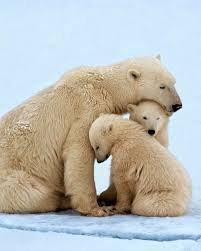bear: (0, 58, 186, 218), (82, 103, 196, 225), (121, 95, 177, 147)
